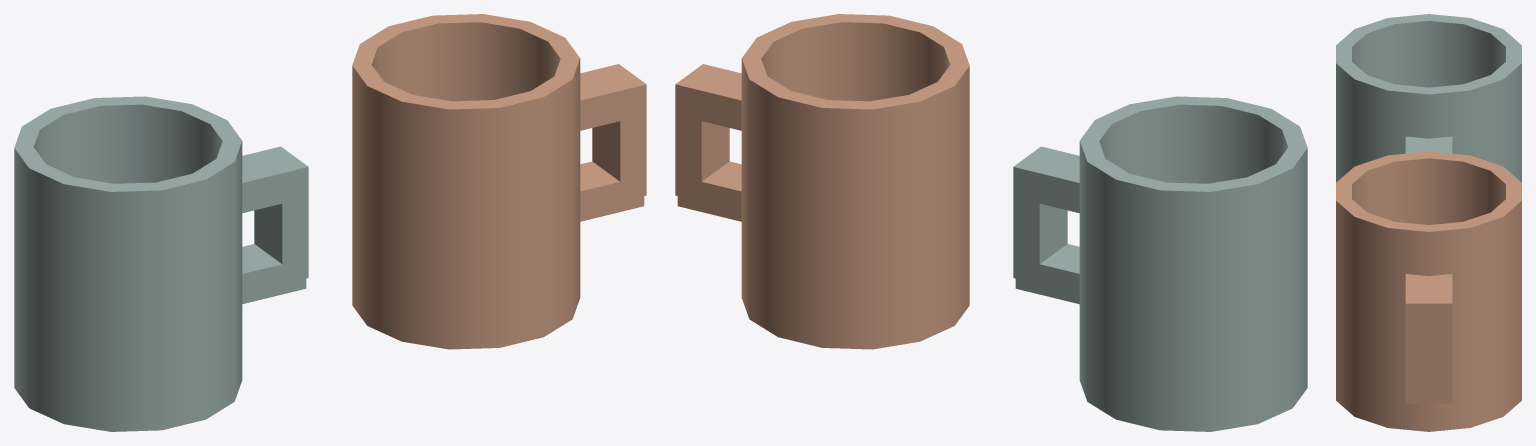
The model's file is mugs.gltf.
The picture shows the model from 3 angles, left to right: view 1: azimuth 30°, elevation 25°; view 2: azimuth 150°, elevation 25°; view 3: azimuth 270°, elevation 25°; orthographic projection. The views are drawn at different scales.
Parts seen in each view (by area): view 1: MugA, MugB, HandleUB, HandleUA, HandleTA, HandleTB, HandleBA, HandleBB; view 2: MugA, MugB, HandleUB, HandleUA, HandleTA, HandleTB, HandleBA, HandleBB; view 3: MugB, MugA, HandleUB, HandleTB, HandleTA, HandleBB.
Boxes of the visible parts, <box> form: MugA: <box>14,96,242,431</box>; MugB: <box>352,14,580,349</box>; HandleUB: <box>592,64,646,198</box>; HandleUA: <box>254,146,308,282</box>; HandleTA: <box>242,147,306,213</box>; HandleTB: <box>580,64,644,130</box>; HandleBA: <box>242,244,306,304</box>; HandleBB: <box>580,161,644,221</box>; MugA: <box>1079,96,1307,431</box>; MugB: <box>741,14,969,349</box>; HandleUB: <box>675,64,729,201</box>; HandleUA: <box>1013,146,1067,283</box>; HandleTA: <box>1015,147,1079,213</box>; HandleTB: <box>677,64,741,130</box>; HandleBA: <box>1015,244,1079,304</box>; HandleBB: <box>677,161,741,221</box>; MugB: <box>1336,151,1521,431</box>; MugA: <box>1336,14,1521,182</box>; HandleUB: <box>1405,293,1452,396</box>; HandleTB: <box>1405,274,1452,302</box>; HandleTA: <box>1405,136,1452,153</box>; HandleBB: <box>1405,396,1452,403</box>.
Bounding box in the file's own units: 0.0156 × 0.00594 × 0.005.
